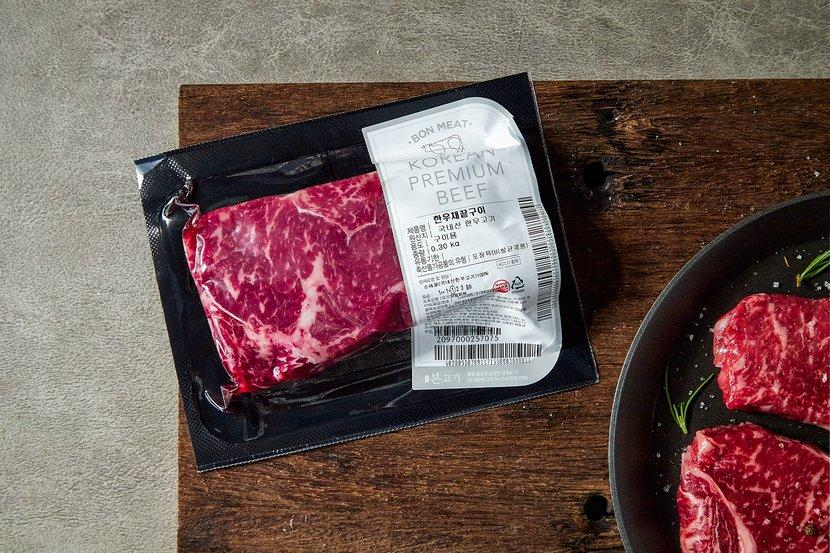beef: (211, 143, 497, 353)
